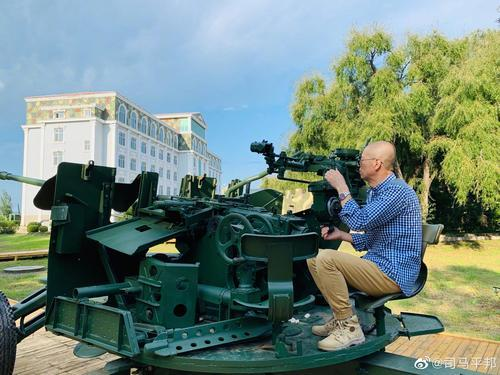MIL_SPG: (0, 163, 468, 374), (251, 142, 366, 203)
